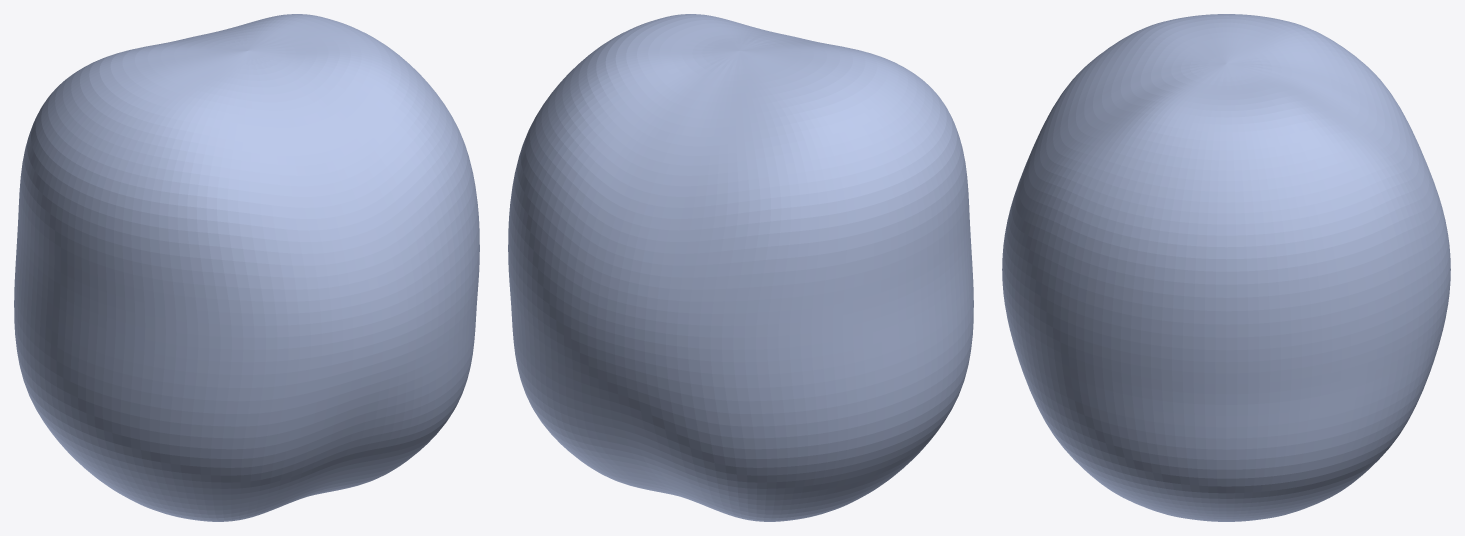
The model's file is Pottasium.fbx.
3 views of the same model, side by side, from view 1: azimuth 30°, elevation 25°; view 2: azimuth 150°, elevation 25°; view 3: azimuth 270°, elevation 25° (orthographic). The views are drawn at different scales.
Parts seen in each view (by area): view 1: Sphere.520; view 2: Sphere.520; view 3: Sphere.520.
Part boxes in pixels (x1,y1,x2,y2): Sphere.520: [14, 14, 479, 521]; Sphere.520: [508, 14, 973, 521]; Sphere.520: [1002, 14, 1450, 521].
Size of the model in its own units: 29.19 by 29.79 by 28.85.
